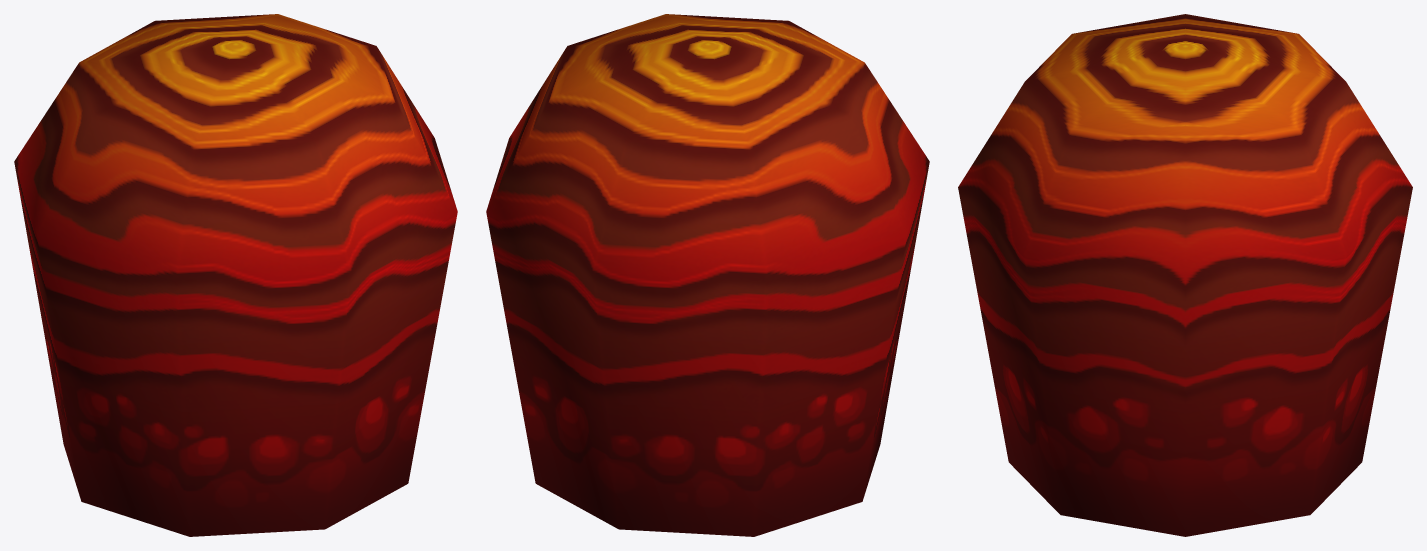
Rendered from Coral_29a.FBX.
The picture shows the model from 3 angles, left to right: view 1: azimuth 30°, elevation 25°; view 2: azimuth 150°, elevation 25°; view 3: azimuth 270°, elevation 25°; orthographic projection.
Parts seen in each view (by area): view 1: Coral_29a; view 2: Coral_29a; view 3: Coral_29a.
Part boxes in pixels (x1,y1,x2,y2): Coral_29a: (14,14,457,536); Coral_29a: (486,14,929,536); Coral_29a: (958,14,1412,536).
Bounding box in the file's own units: 43.84 × 44.28 × 43.84.
